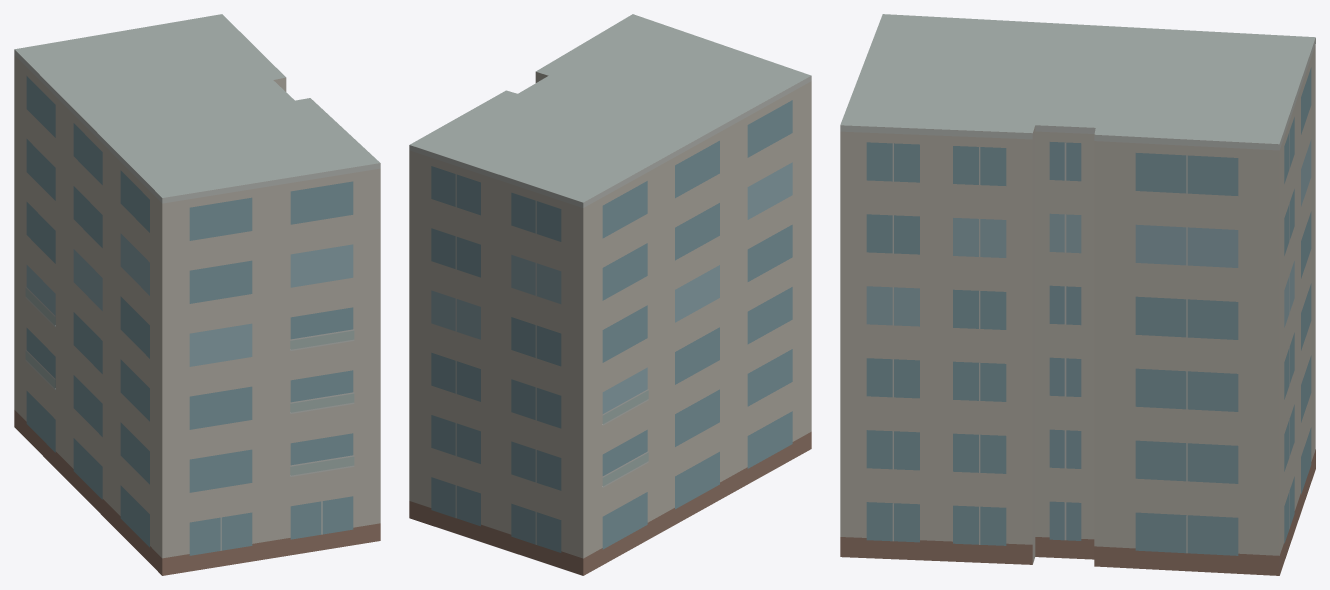
Rendered from survey-upis-33023646.glb.
3 renders of one model, left to right at view 1: azimuth 30°, elevation 25°; view 2: azimuth 150°, elevation 25°; view 3: azimuth 270°, elevation 25°, orthographic. The views are drawn at different scales.
Parts seen in each view (by area): view 1: survey-upis-33023646.tmp; view 2: survey-upis-33023646.tmp; view 3: survey-upis-33023646.tmp.
Boxes of the visible parts, x1,y1,x2,y2 form: survey-upis-33023646.tmp: [14, 14, 380, 575]; survey-upis-33023646.tmp: [409, 14, 811, 575]; survey-upis-33023646.tmp: [840, 14, 1315, 575].
Bounding box in the file's own units: 10.81 × 16.7 × 16.69.
